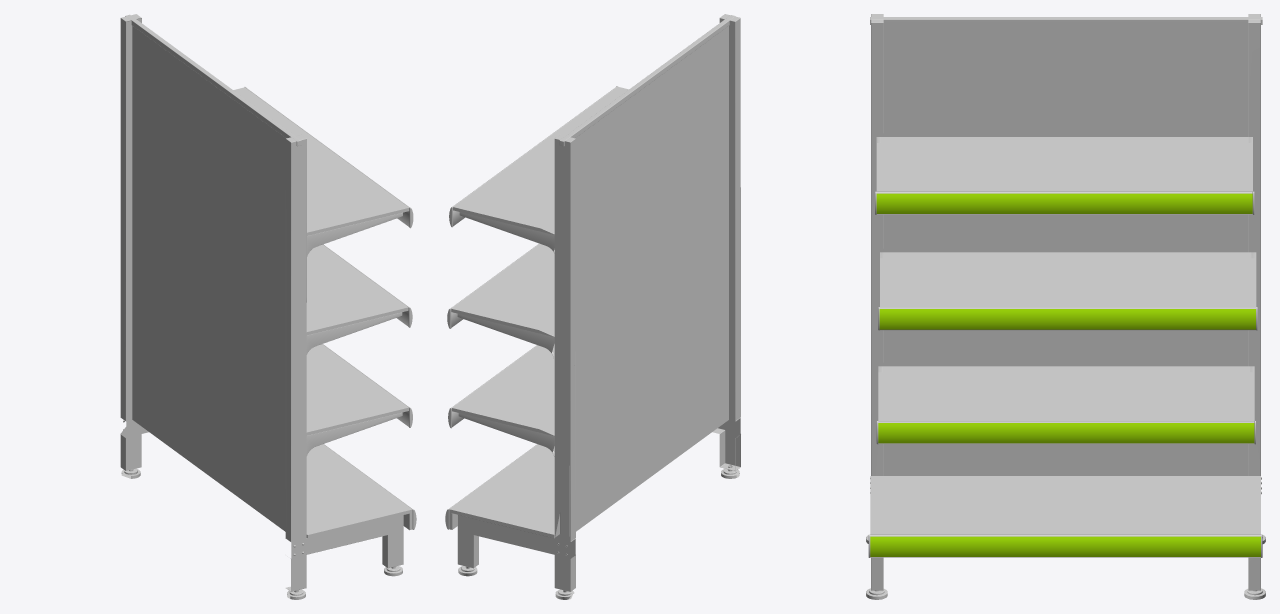
Rendered from EstanteriaPared.glb.
The picture shows the model from 3 angles, left to right: view 1: azimuth 30°, elevation 25°; view 2: azimuth 150°, elevation 25°; view 3: azimuth 270°, elevation 25°; orthographic projection. The views are drawn at different scales.
Parts seen in each view (by area): view 1: grocery_shelf_base.001, grocery_shelves001.003, grocery_shelves001.001, grocery_shelves001.002; view 2: grocery_shelf_base.001, grocery_shelves001.003, grocery_shelves001.002, grocery_shelves001.001; view 3: grocery_shelf_base.001, grocery_shelves001.002, grocery_shelves001.003, grocery_shelves001.001.
Boxes of the visible parts, x1,y1,x2,y2 form: grocery_shelf_base.001: (120, 14, 416, 599); grocery_shelves001.003: (233, 87, 413, 256); grocery_shelves001.001: (306, 344, 412, 455); grocery_shelves001.002: (306, 244, 412, 354); grocery_shelf_base.001: (445, 14, 740, 599); grocery_shelves001.003: (449, 86, 628, 253); grocery_shelves001.002: (447, 243, 554, 356); grocery_shelves001.001: (448, 344, 554, 456); grocery_shelf_base.001: (866, 14, 1265, 599); grocery_shelves001.002: (878, 248, 1257, 330); grocery_shelves001.003: (875, 133, 1254, 214); grocery_shelves001.001: (876, 362, 1255, 444).
Size of the model in its own units: 0.7238 by 1.37 by 0.9514.
